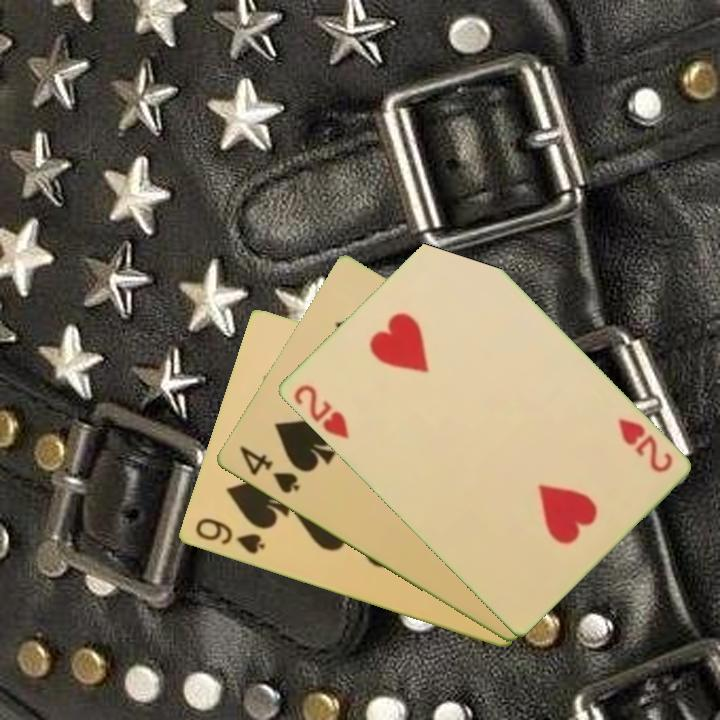2h: (614, 414, 676, 476), (289, 381, 352, 442)
4s: (235, 442, 303, 497)
9s: (191, 514, 267, 558)
